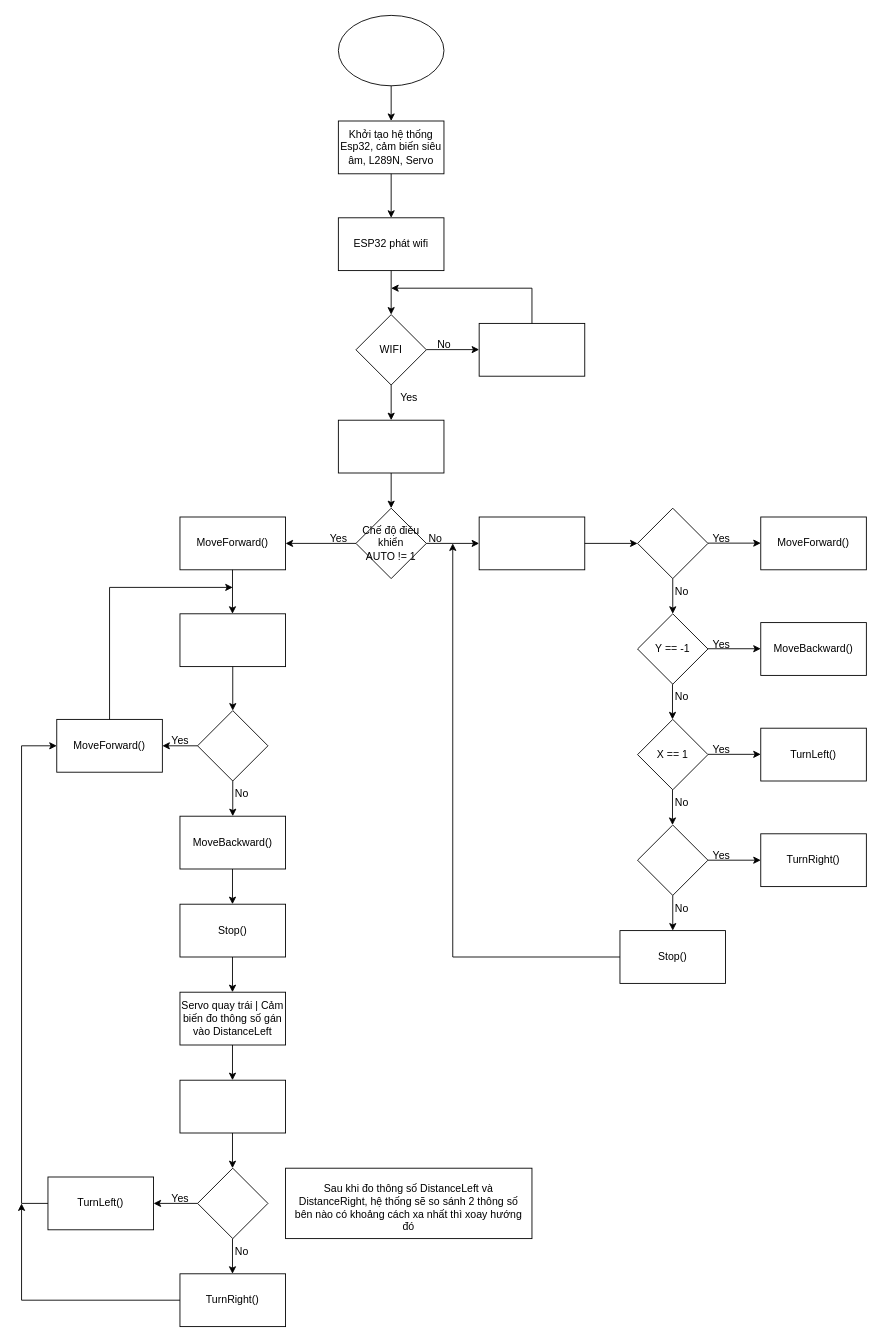
Some shapes in this 882 by 1342 pixel diagram are drawn without their labels. The centre of each missing label's shape, as x and y in pixels:
"Bắt dầu" belongs at [390,50].
"Cảm biến đo khoảng cách" belongs at [232,640].
"Distance <= 30" belongs at [232,745].
"DL >= DR" belongs at [232,1203].
"ERROR" belongs at [531,349].
"Servo quay phải | Cảm biến đo thông số gán vào DistanceRight" belongs at [232,1106].
"X == -1" belongs at [672,859].
"Y == 1" belongs at [672,543].
"Điều khiển JoyStick" belongs at [531,543].
"Điều khiển trên web ESP32" belongs at [390,446].
